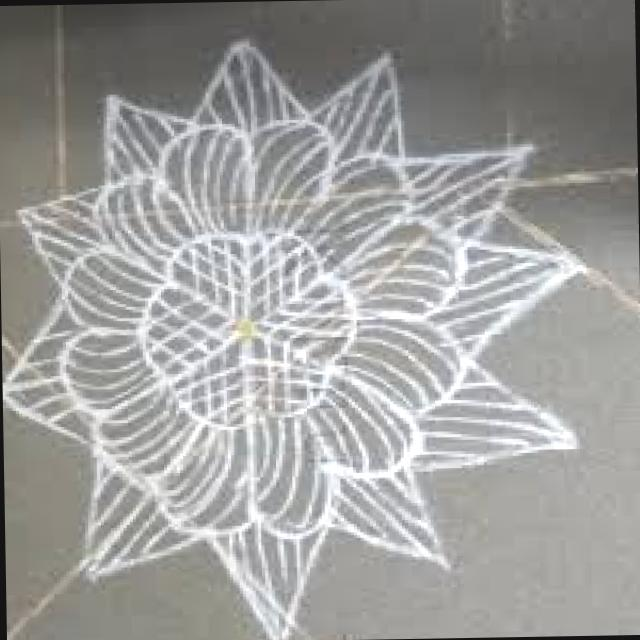rangoli: (0, 23, 600, 640)
